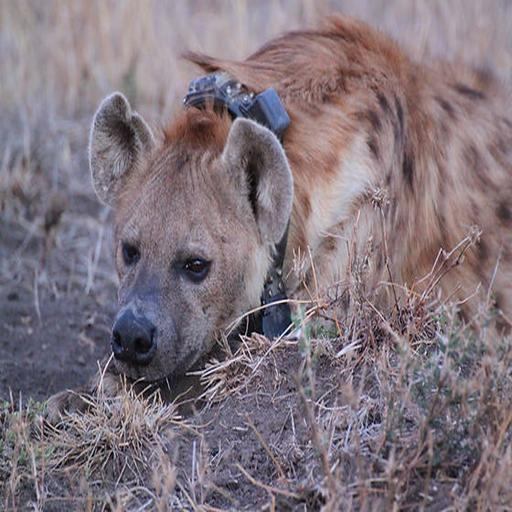Hyena: (93, 20, 512, 444)
